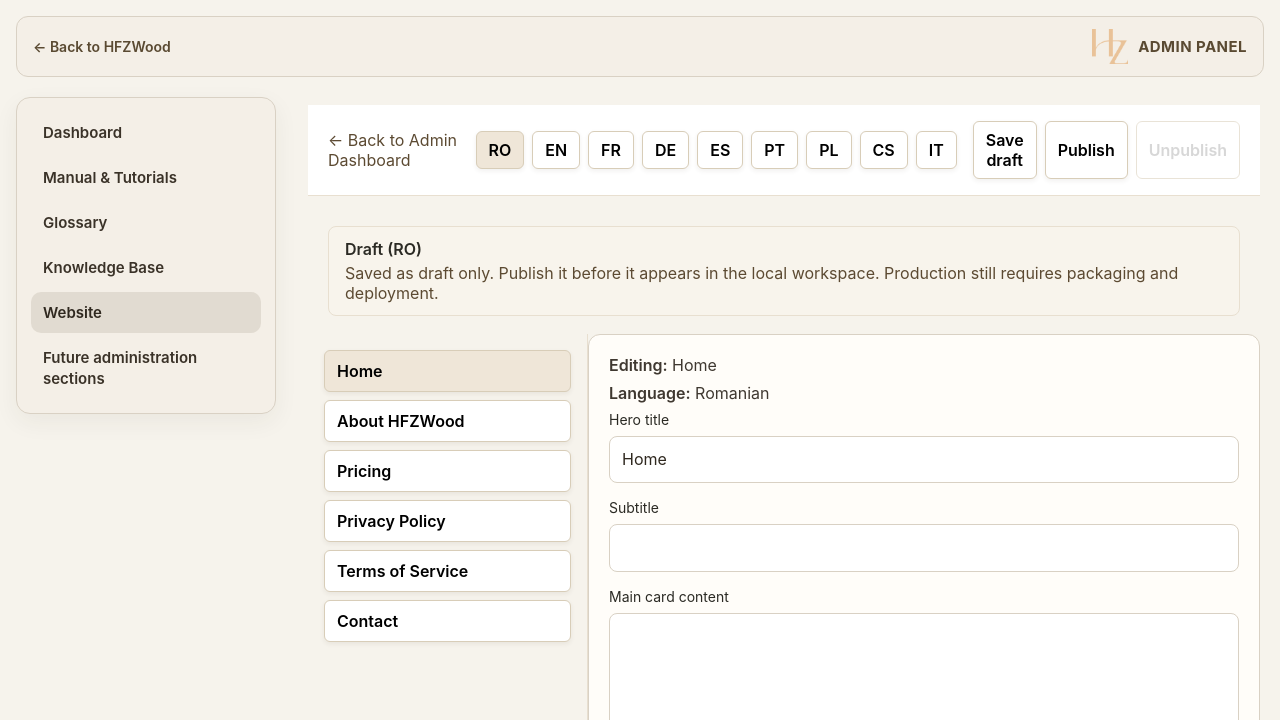
Test: Website management editors (Stage 5B) › shows unsaved changes guard when switching pages
expect the field labelled "Hero title" is shown: met, box x1=609 y1=436 x2=1239 y2=483
Type "Changed" into the field labelled "Subtitle". click: (924, 548)
box: x1=609 y1=524 x2=1239 y2=572
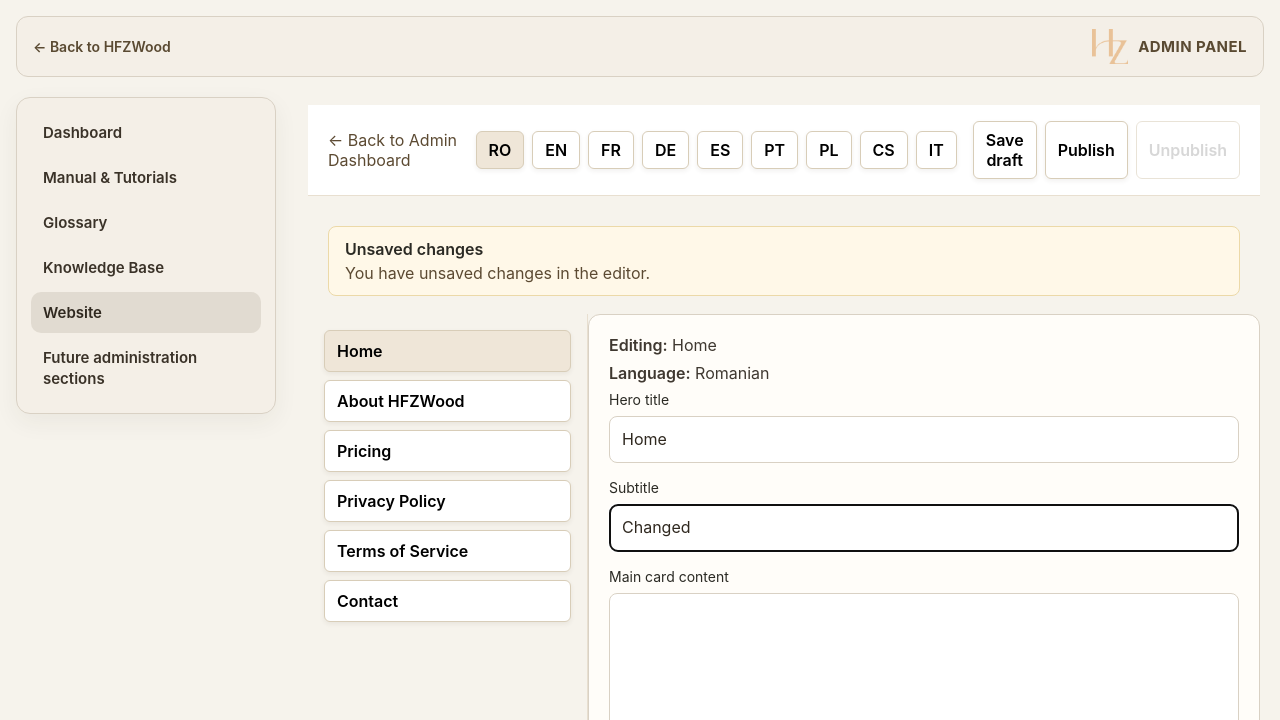
Click the button "Pricing". click: (448, 451)
box: x1=324 y1=430 x2=571 y2=472
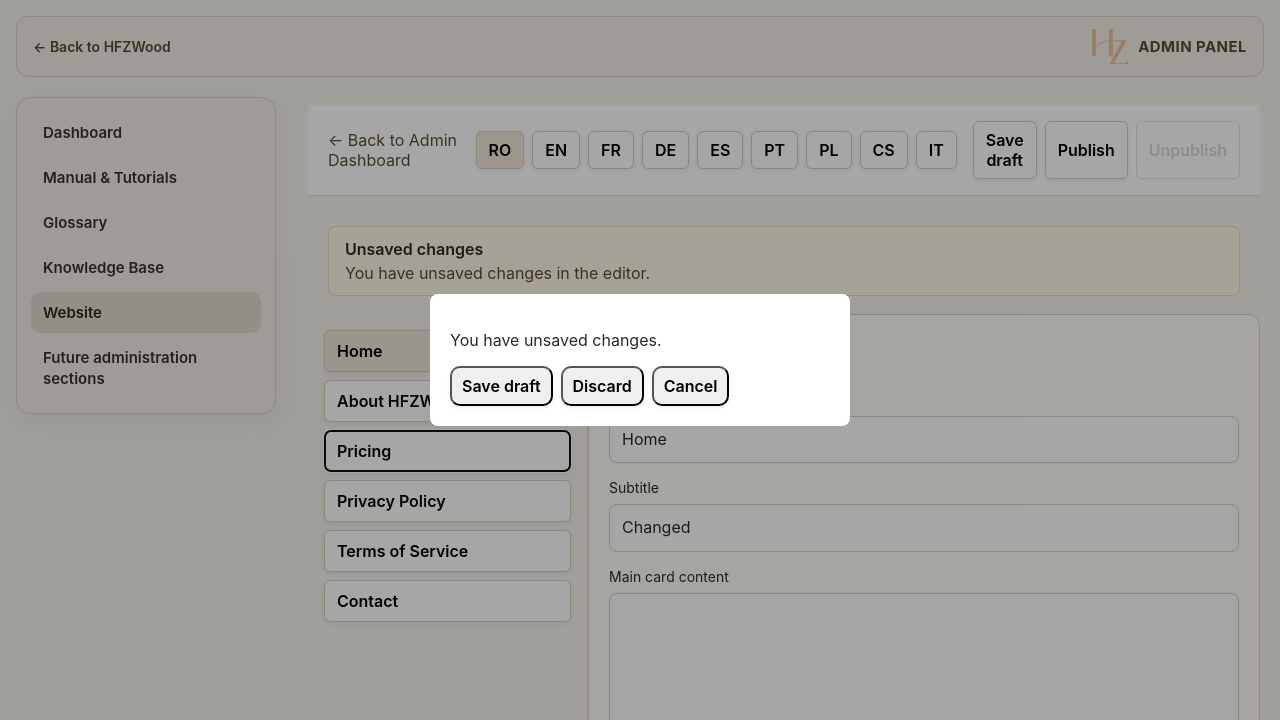
expect the dialog is shown: met, box x1=430 y1=294 x2=850 y2=426
